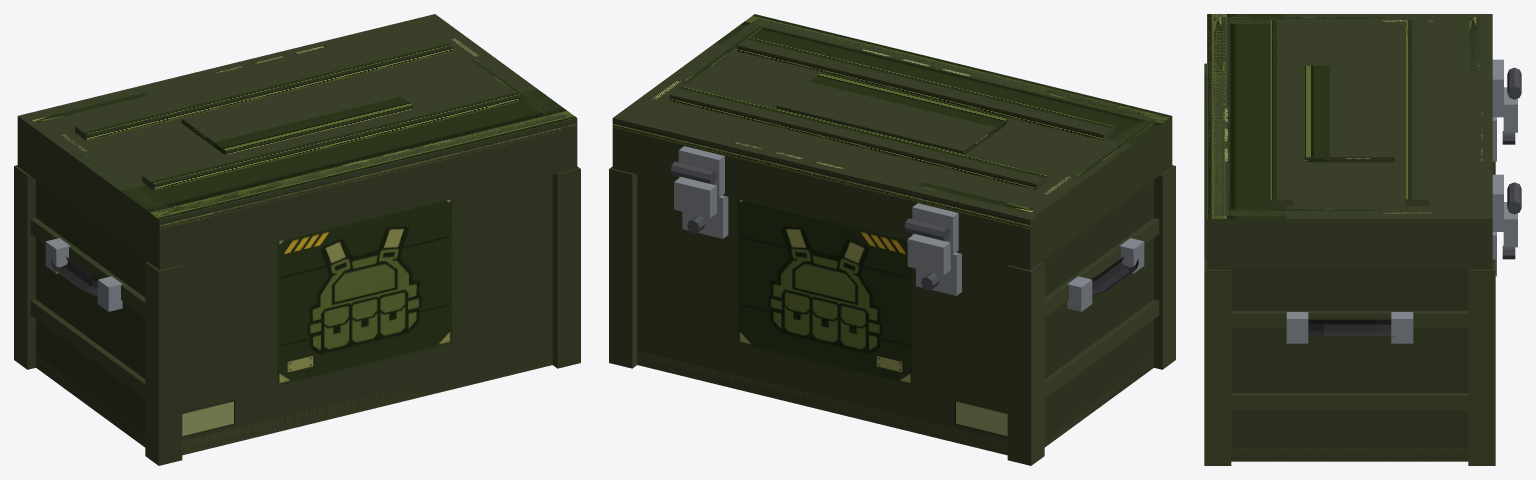
File: Crate_Armor.fbx
3 renders of one model, left to right at view 1: azimuth 30°, elevation 25°; view 2: azimuth 150°, elevation 25°; view 3: azimuth 270°, elevation 25°, orthographic.
Parts seen in each view (by area): view 1: Crate_Armor; view 2: Crate_Armor; view 3: Crate_Armor.
Part boxes in pixels (left/top/right/bottom): Crate_Armor: left=14, top=14, right=580, bottom=465; Crate_Armor: left=609, top=14, right=1175, bottom=465; Crate_Armor: left=1204, top=14, right=1521, bottom=465.
Size of the model in its own units: 0.5957 by 0.308 by 0.351.
Materials: 8 (5 with a texture image).
